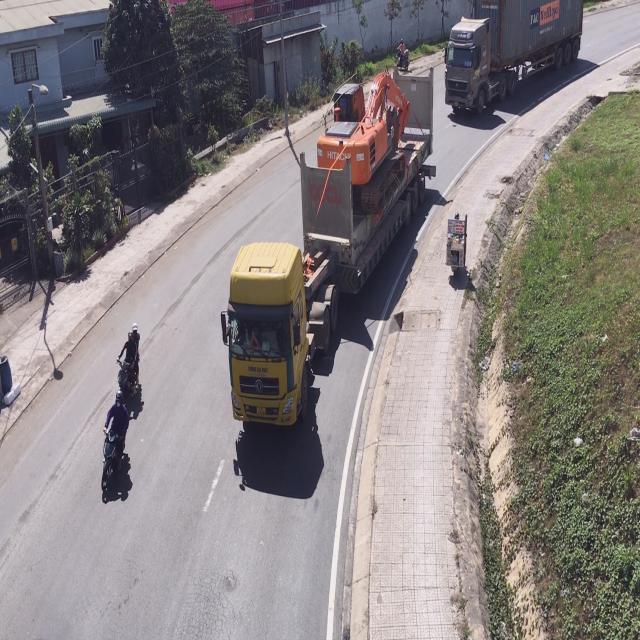motorbike: (101, 396, 129, 504), (116, 323, 142, 417), (446, 210, 466, 278)
truck: (226, 75, 435, 426), (443, 1, 582, 118)
